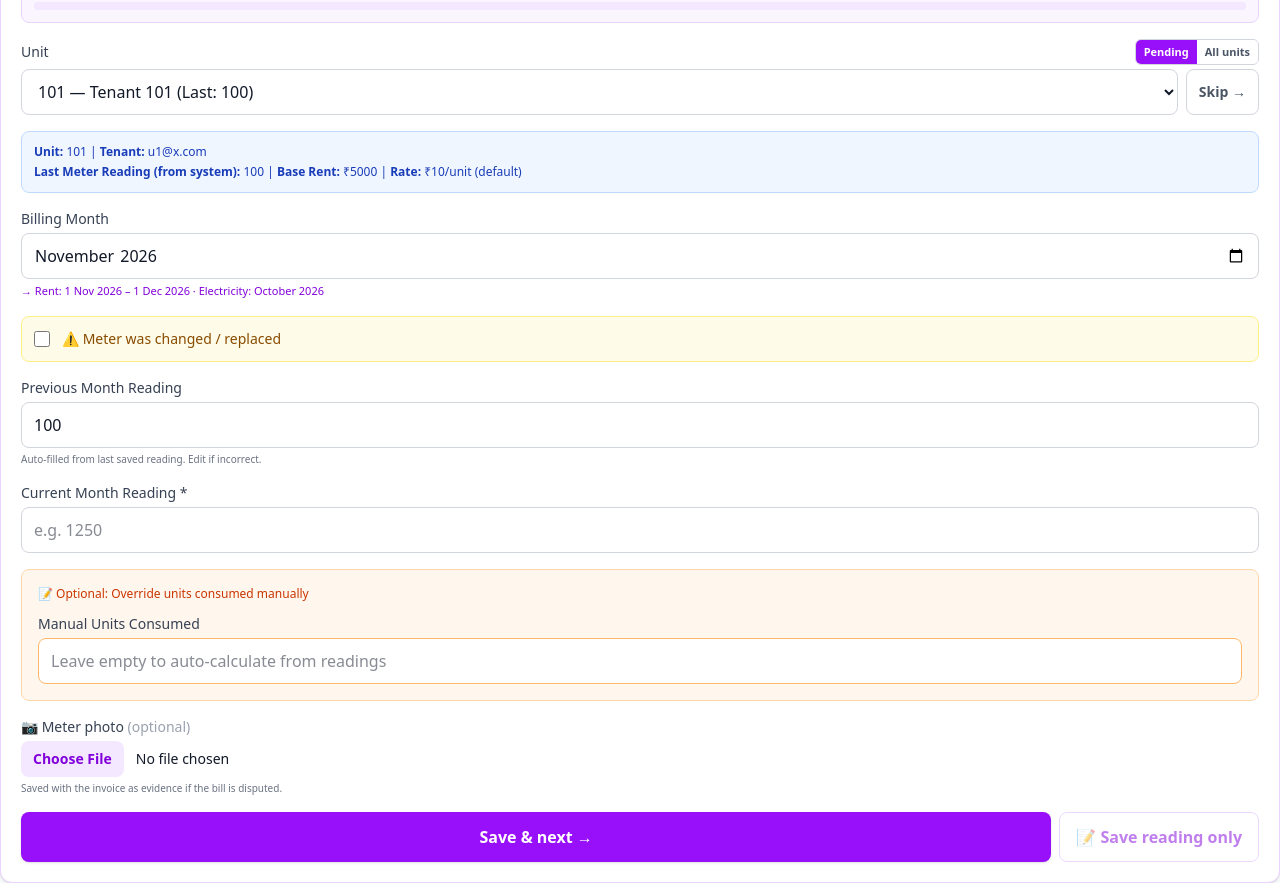
Test: MeterTab — reading checks, drafts and photo › blocks a reading below the previous one and points to Meter changed
The width and height of the screenshot is (1280, 883).
(page scrolled)
In the number field with placeholder "e.g. 1250": (640, 530) [21, 507, 1259, 553], type "90"
(page scrolled)
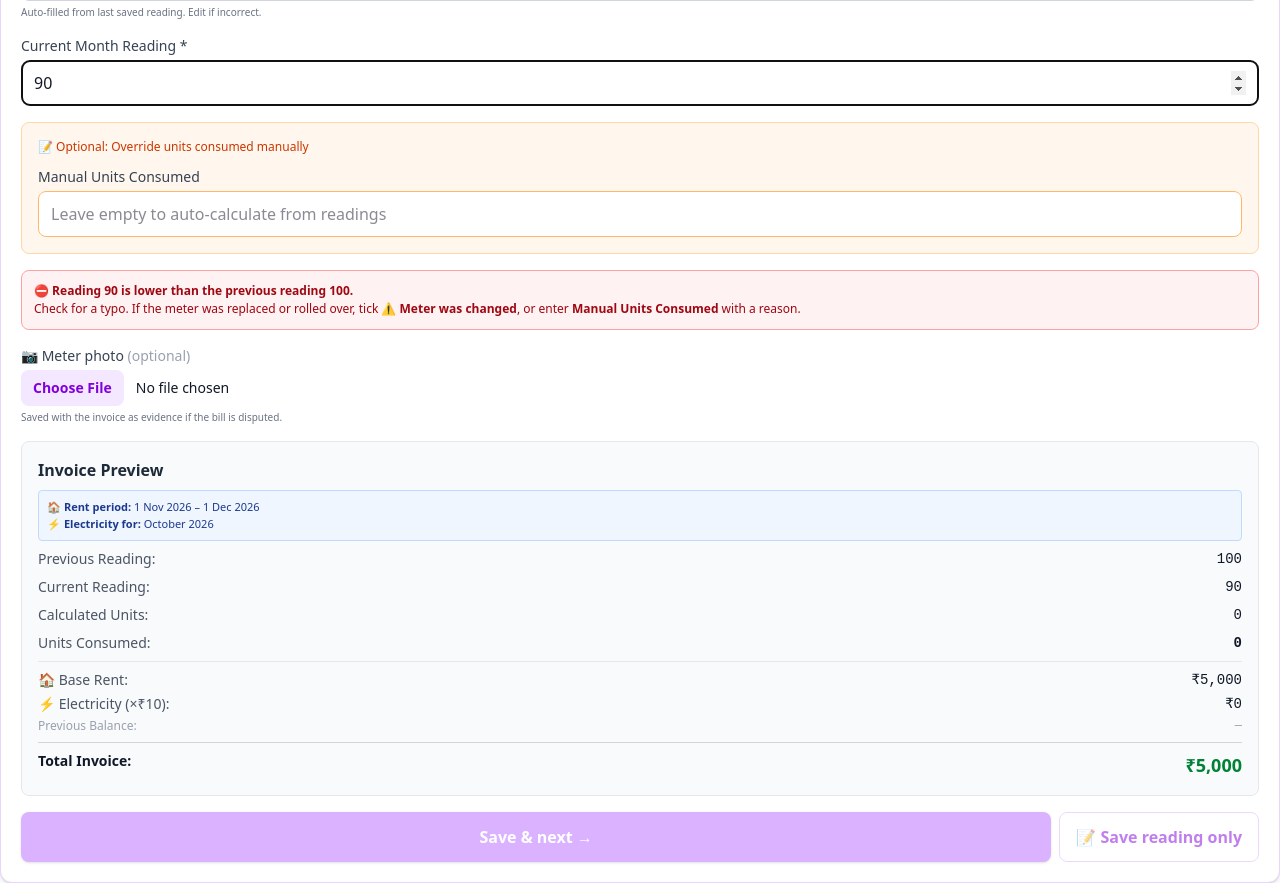
Expected: the button "📝 Save reading only" is disabled, [1059, 812, 1259, 862]
Now the message shows "lower than the previous reading 100", box [21, 270, 1259, 330]
Now the button "Save & next →" is disabled, box [21, 812, 1051, 862]
